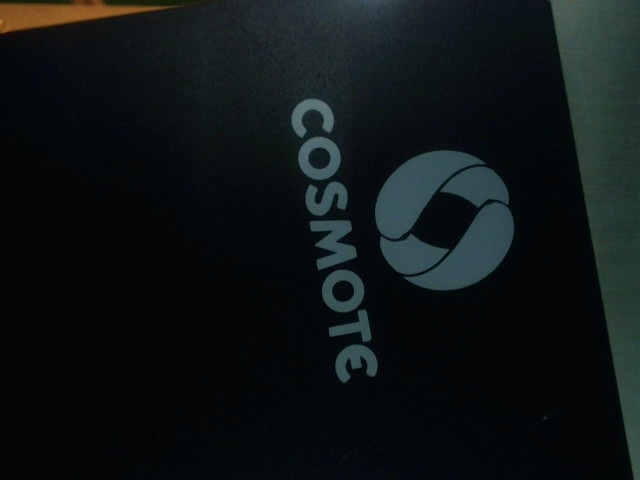AU_COSMOTE: (258, 84, 526, 386)
